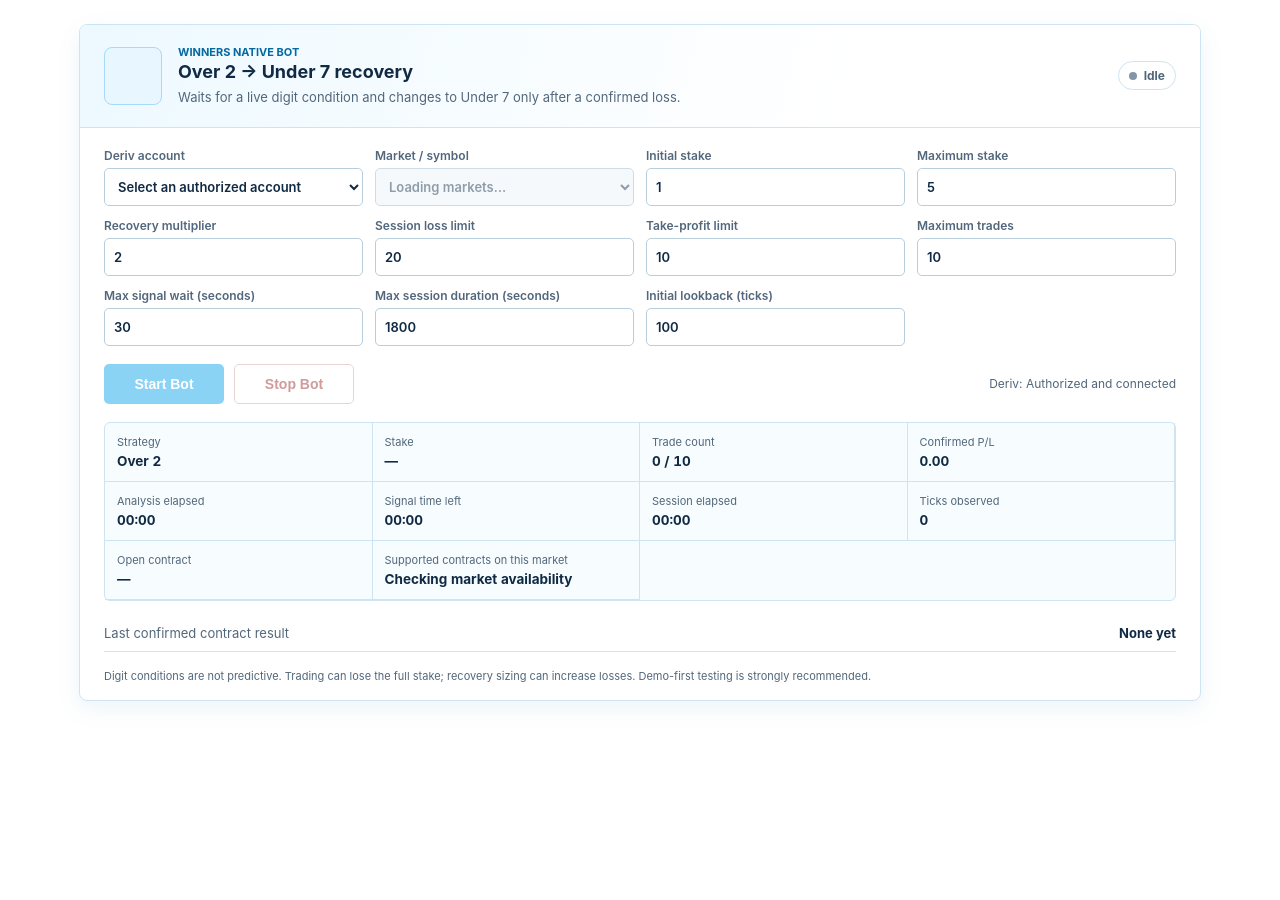
native bot dashboard panel › requires manual verification before restarting after an uncertain purchase response
This screenshot has width=1280, height=900.
Select "Demo · VRTC123" in the dropdown labelled "Deriv account" at {"x": 234, "y": 187}, box [104,168,363,206]
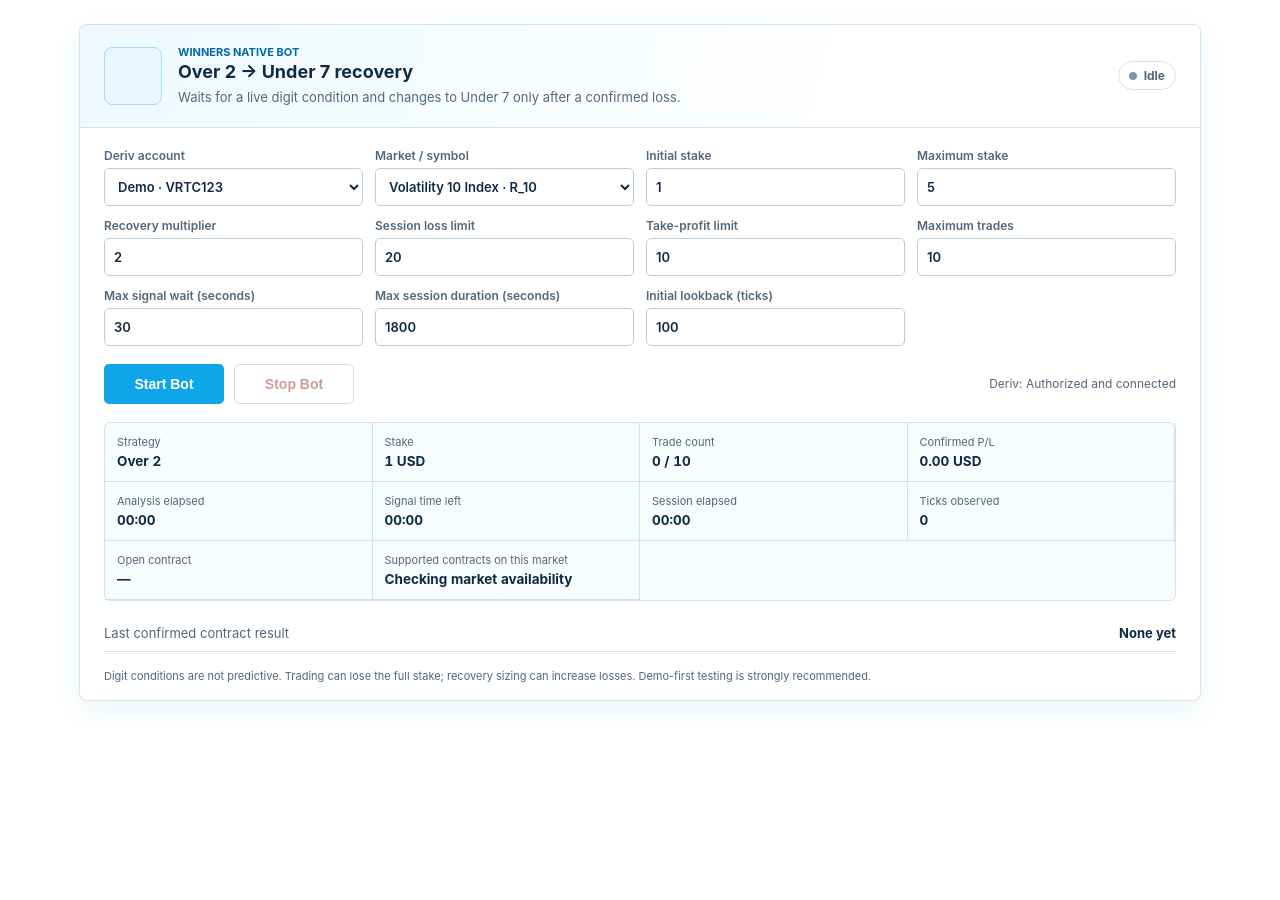
Click the button "Start Bot" at {"x": 164, "y": 384}, box [104,364,224,404]
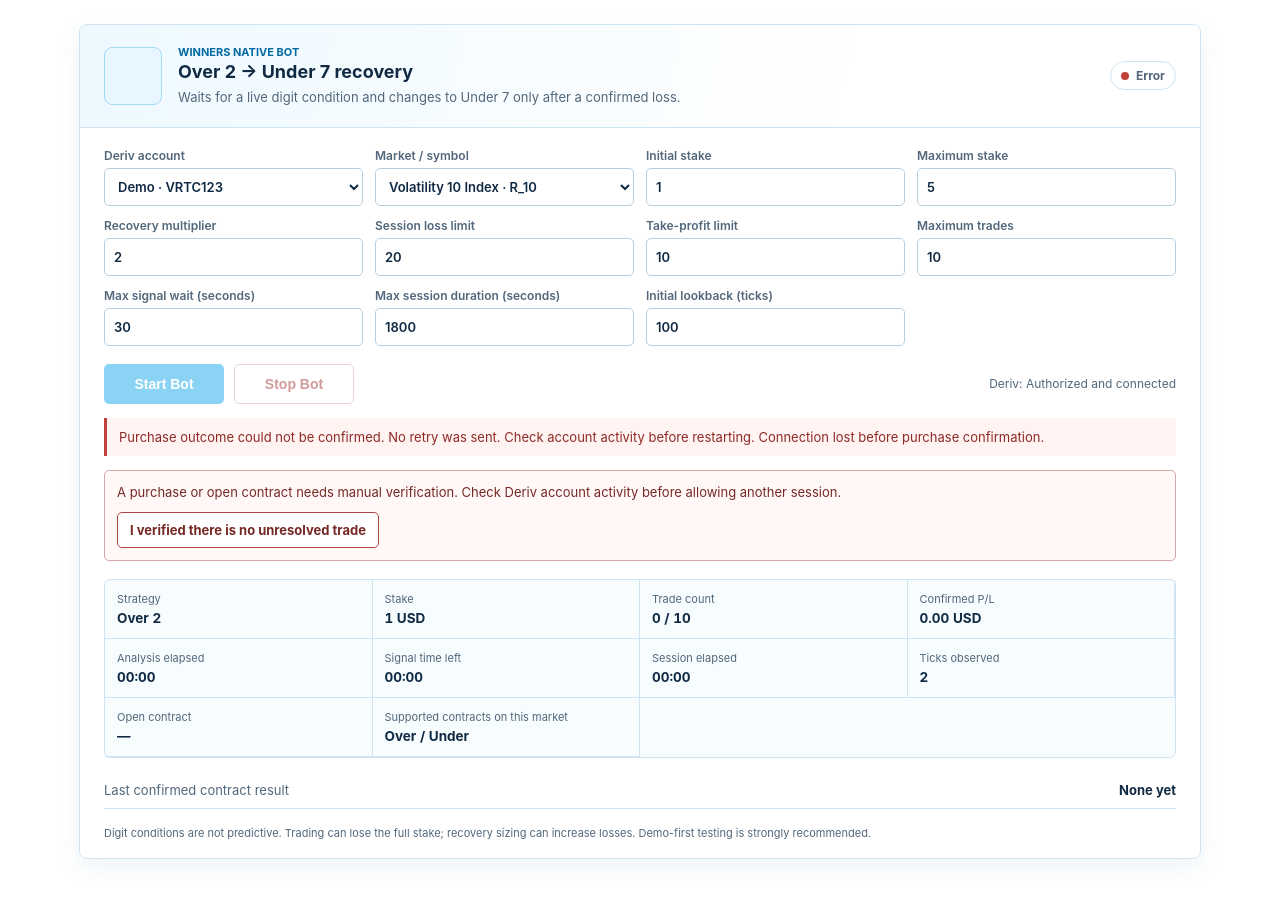
Result: the button "Start Bot" is disabled at [104,364,224,404]
Click the button "I verified there is no unresolved trade" at {"x": 248, "y": 530}, box [117,512,379,548]
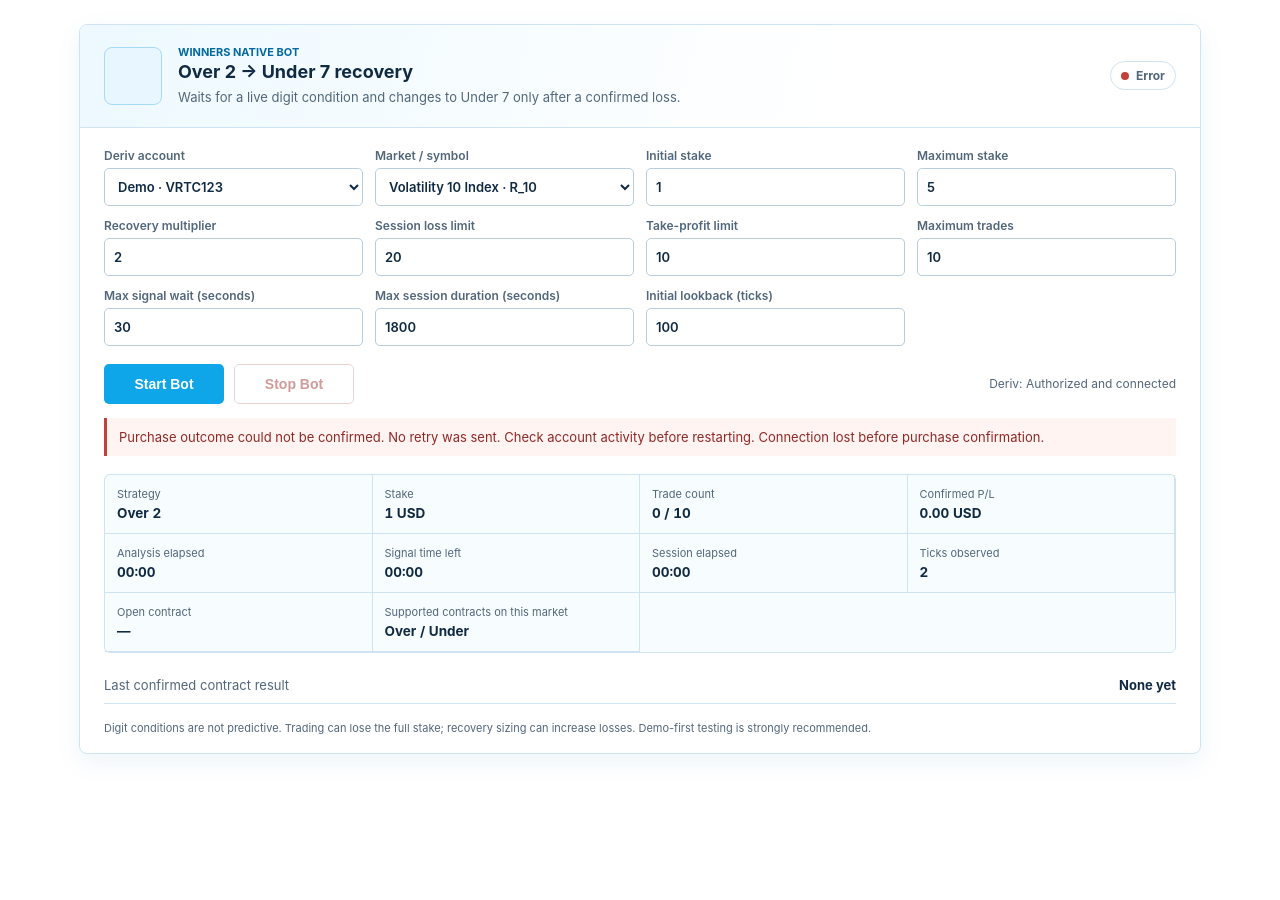
Result: the button "Start Bot" is enabled at [104,364,224,404]
